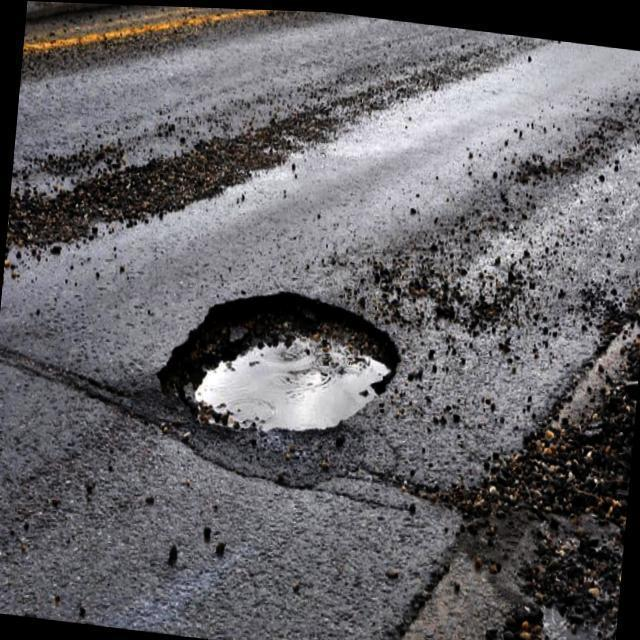Pothole: (161, 286, 396, 434)
